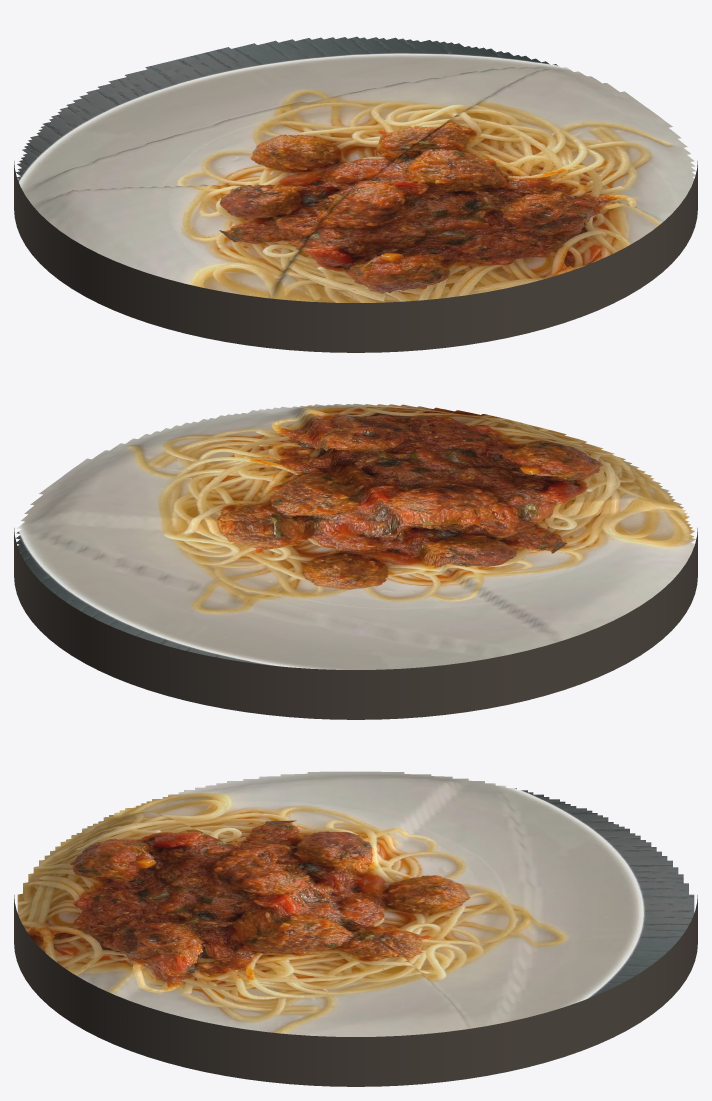
File: plato.glb
3 renders of one model, top to bottom at view 1: azimuth 30°, elevation 25°; view 2: azimuth 150°, elevation 25°; view 3: azimuth 270°, elevation 25°, orthographic.
Bounding box in the file's own units: 0.2985 × 0.024 × 0.2985.
Materials: 2 (1 with a texture image).
